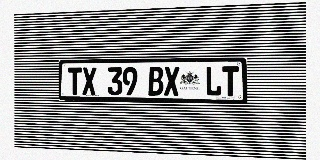3: (108, 67, 122, 95)
9: (123, 67, 137, 95)
B: (148, 67, 163, 96)
L: (205, 66, 222, 96)
T: (222, 66, 239, 96), (68, 67, 82, 95)
X: (164, 67, 179, 96), (82, 67, 96, 95)
